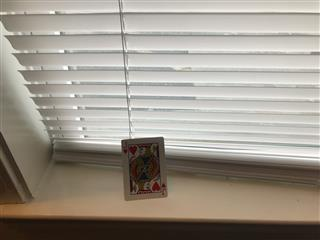JackOfHearts: (121, 136, 167, 200)
